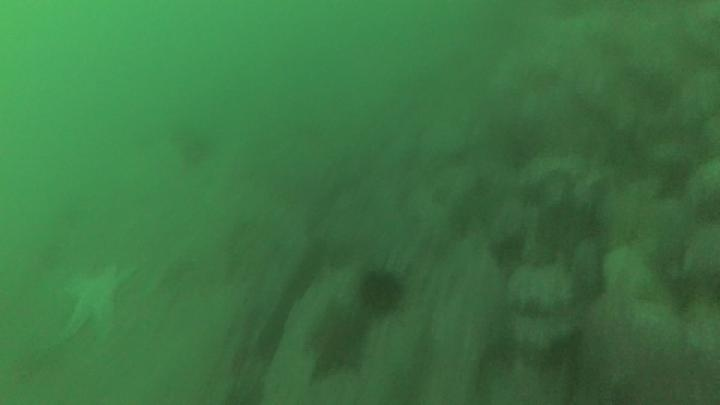echinus: (355, 264, 408, 317)
starfish: (58, 260, 139, 345), (302, 304, 373, 381)
